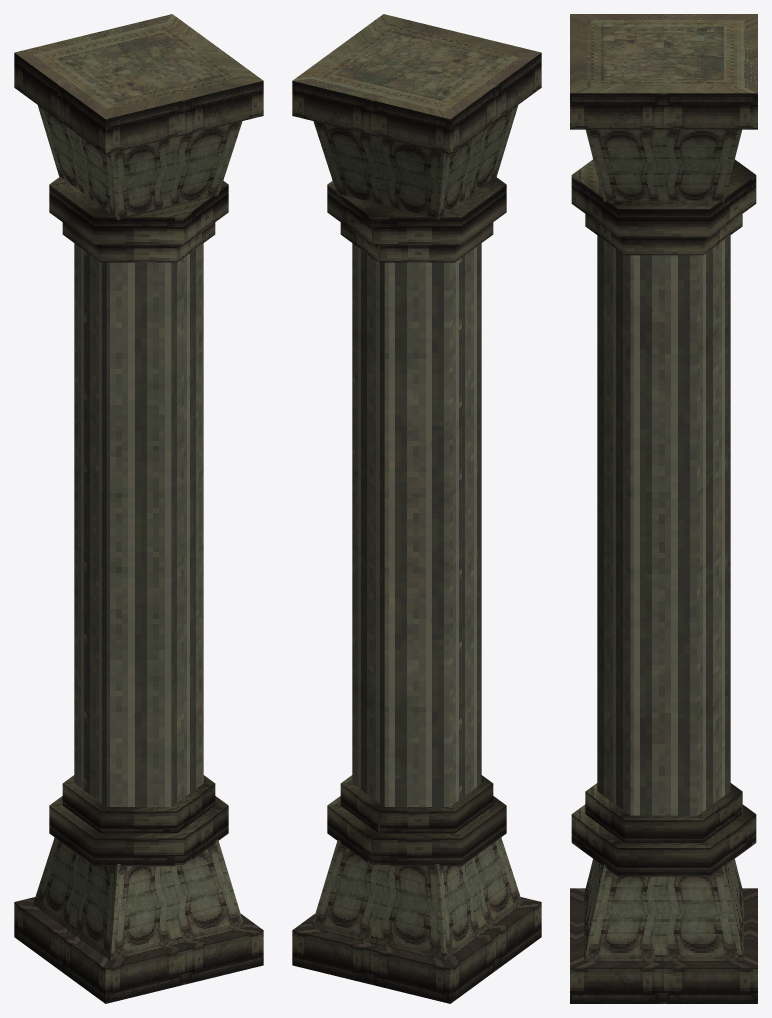
Rendered from pillar.glb.
3 views of the same model, side by side, from view 1: azimuth 30°, elevation 25°; view 2: azimuth 150°, elevation 25°; view 3: azimuth 270°, elevation 25° (orthographic). The views are drawn at different scales.
Visible parts, largest first — view 1: pillar; view 2: pillar; view 3: pillar.
Part boxes in pixels (x1=…): pillar: x1=14, y1=14, x2=263, y2=1003; pillar: x1=292, y1=14, x2=541, y2=1003; pillar: x1=570, y1=14, x2=757, y2=1003.
Bounding box in the file's own units: 1.13 × 6.04 × 1.13.
1 material, 1 textured.
